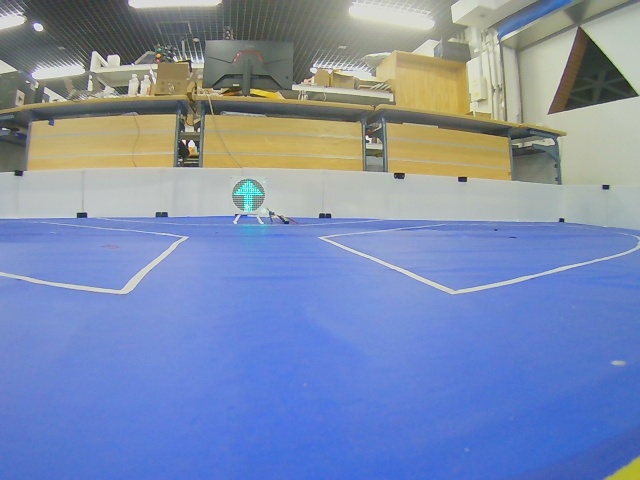straight_green: (232, 179, 265, 214)
